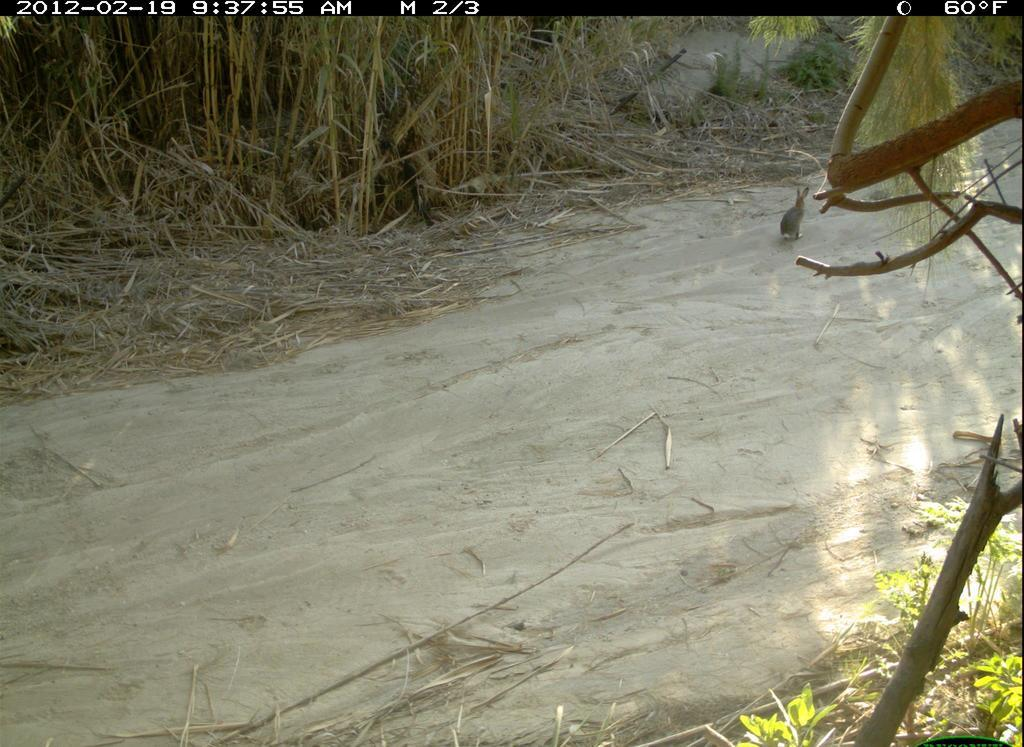rabbit: (770, 182, 812, 242)
